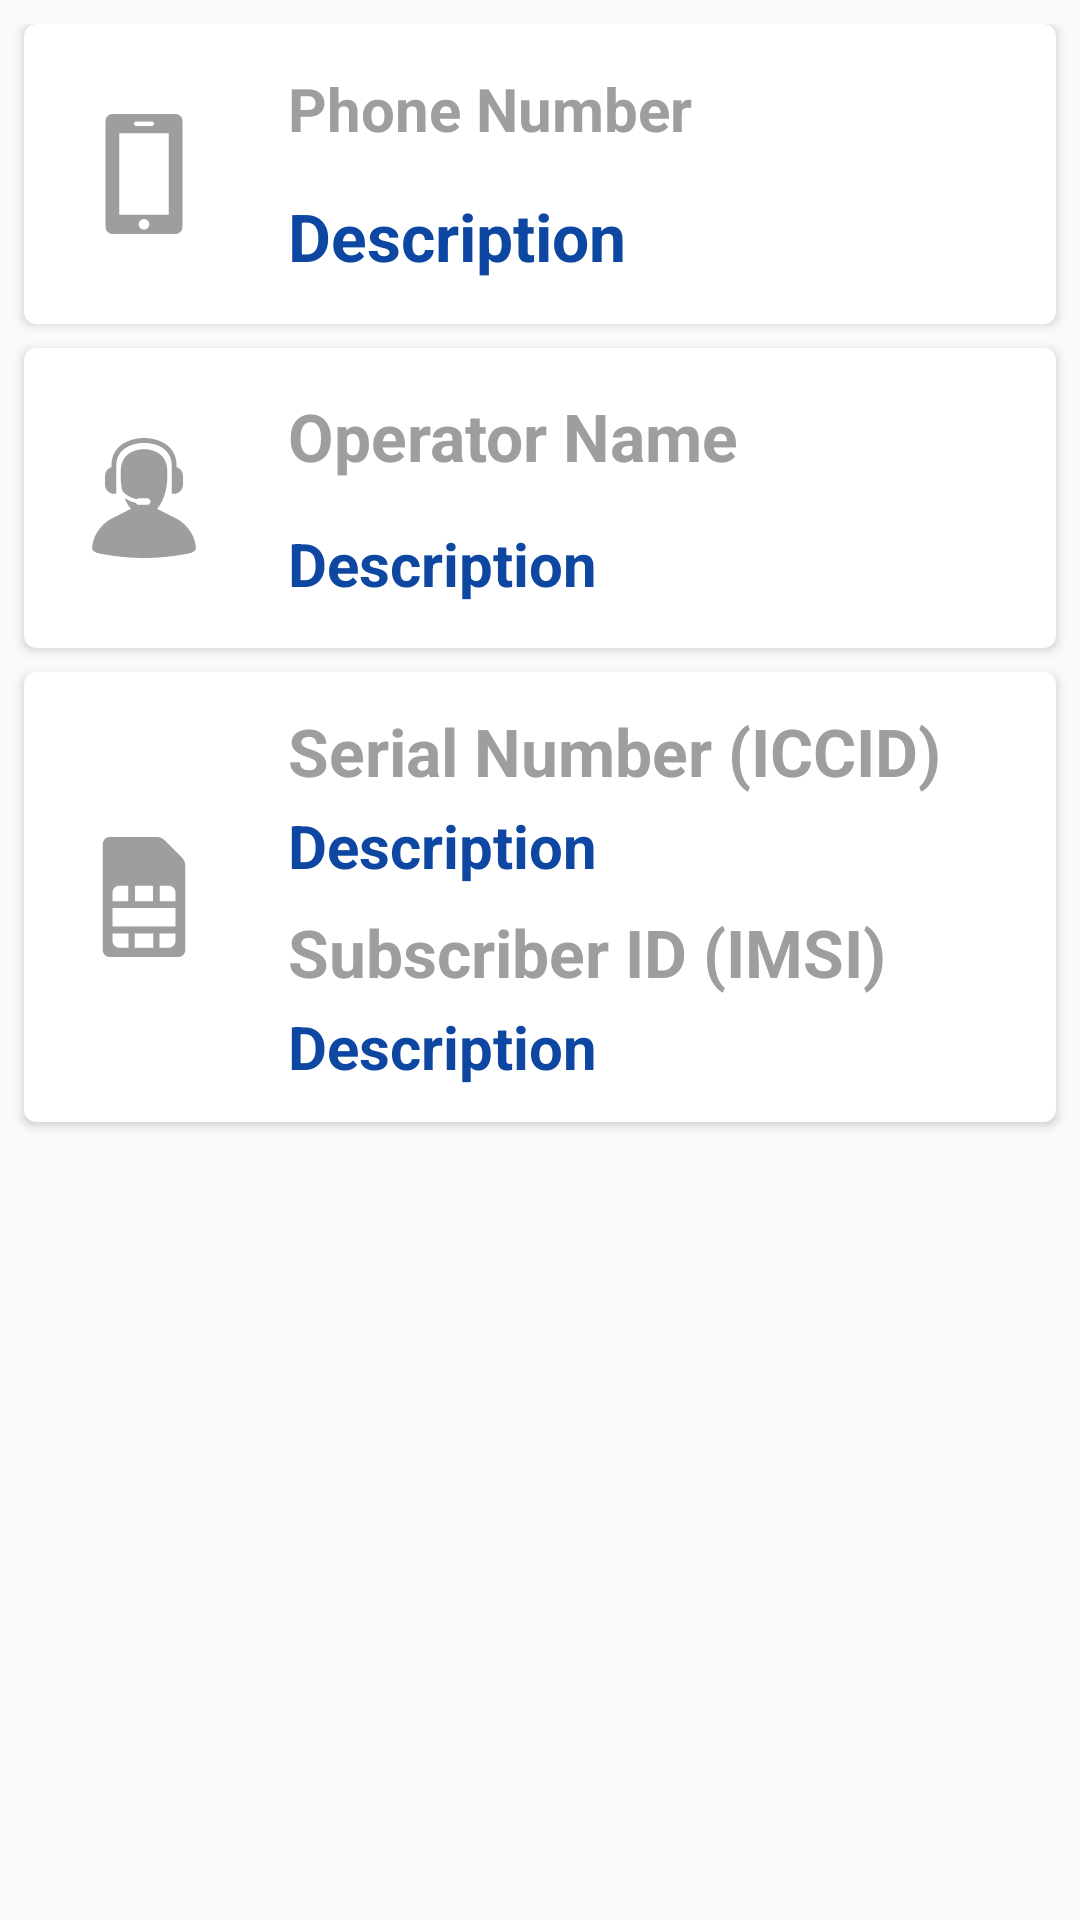

Named icons in this screenshot (1080px×1920px) and their centers, point (x, y):
help operator: point (144, 498)
sim card: point (144, 897)
smartphone: point (144, 174)
